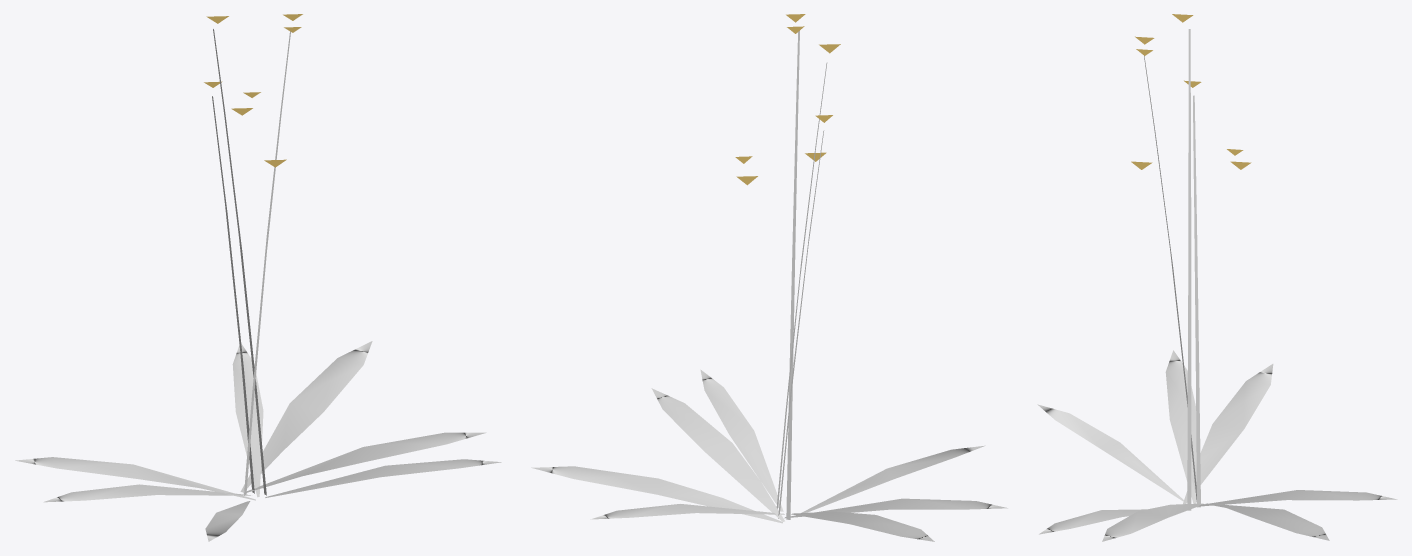
File: RibwortPlantain_LOD0.glb
3 views of the same model, side by side, from view 1: azimuth 30°, elevation 25°; view 2: azimuth 150°, elevation 25°; view 3: azimuth 270°, elevation 25° (orthographic). The views are drawn at different scales.
Visible parts, largest first — view 1: RibwortPlantain_LOD0; view 2: RibwortPlantain_LOD0; view 3: RibwortPlantain_LOD0.
Part boxes in pixels (box(x1,y1,x2,y2)): RibwortPlantain_LOD0: box(15, 14, 501, 541); RibwortPlantain_LOD0: box(531, 14, 1007, 541); RibwortPlantain_LOD0: box(1037, 14, 1397, 541).
Bounding box in the file's own units: 1.2 × 1.38 × 0.954.
